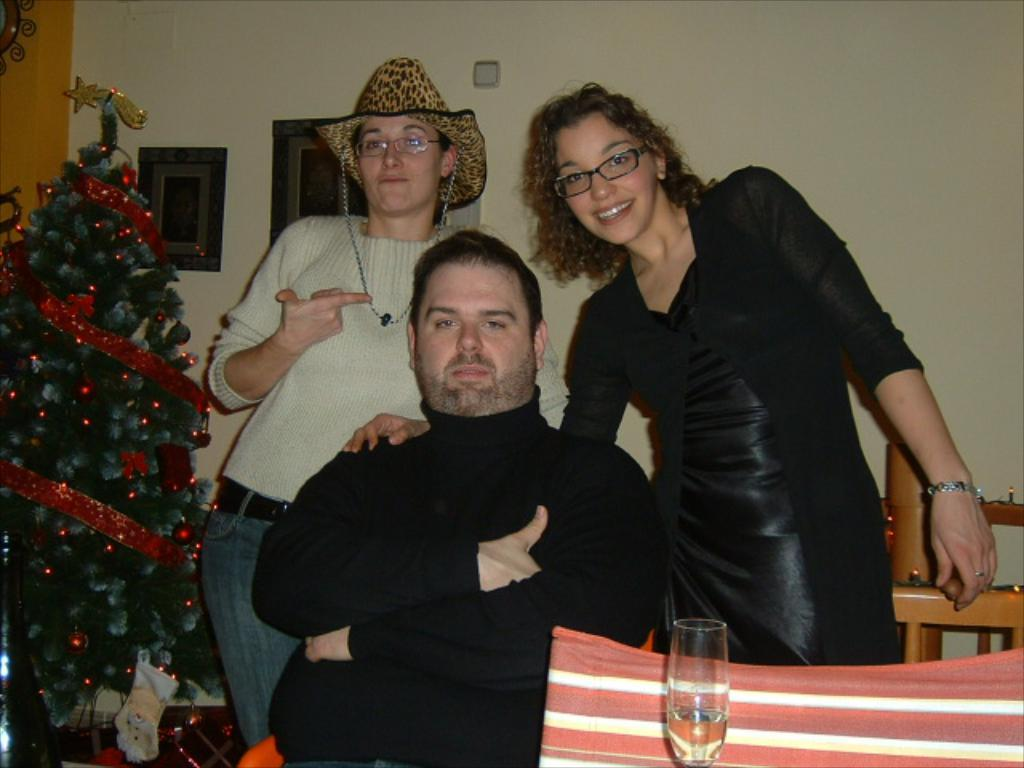Hat: (310, 57, 488, 324)
